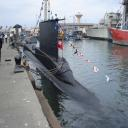submarine: (23, 18, 111, 118)
